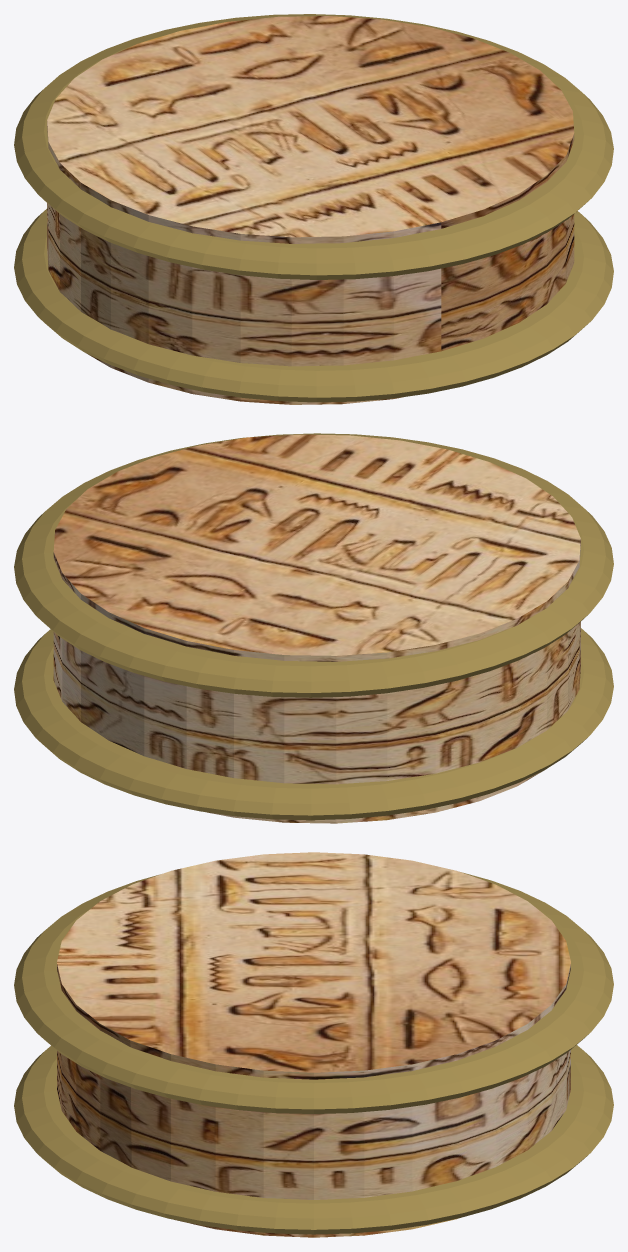
The model's file is EgiptStand.fbx.
The picture shows the model from 3 angles, top to bottom: view 1: azimuth 30°, elevation 25°; view 2: azimuth 150°, elevation 25°; view 3: azimuth 270°, elevation 25°; orthographic projection.
Parts seen in each view (by area): view 1: Cylinder; view 2: Cylinder; view 3: Cylinder.
Boxes of the visible parts, x1=… form: Cylinder: x1=14, y1=14, x2=613, y2=404; Cylinder: x1=14, y1=433, x2=613, y2=823; Cylinder: x1=14, y1=852, x2=613, y2=1237.
Size of the model in its own units: 157 by 48.54 by 160.
